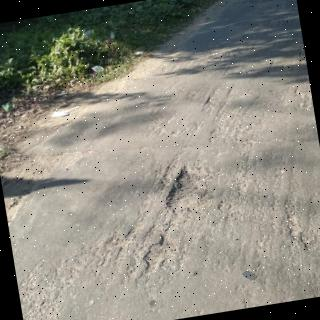pothole: (166, 164, 214, 214)
